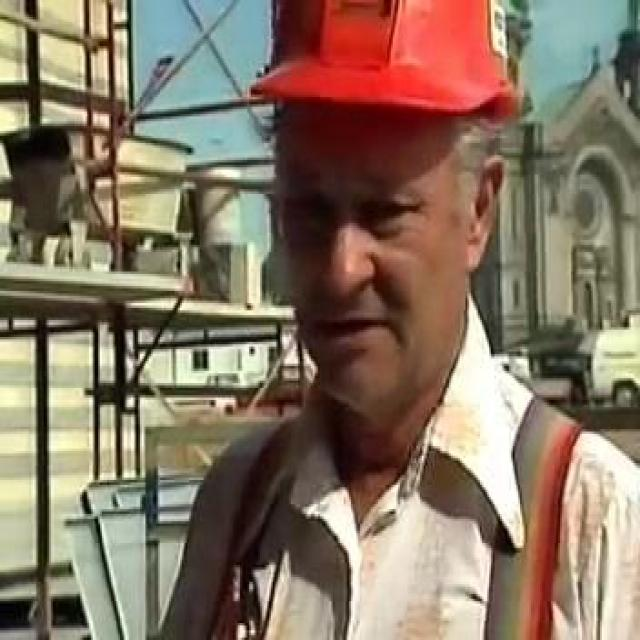Reflective-Jacket: (162, 366, 616, 640)
Safety-Helmet: (236, 0, 539, 150)
